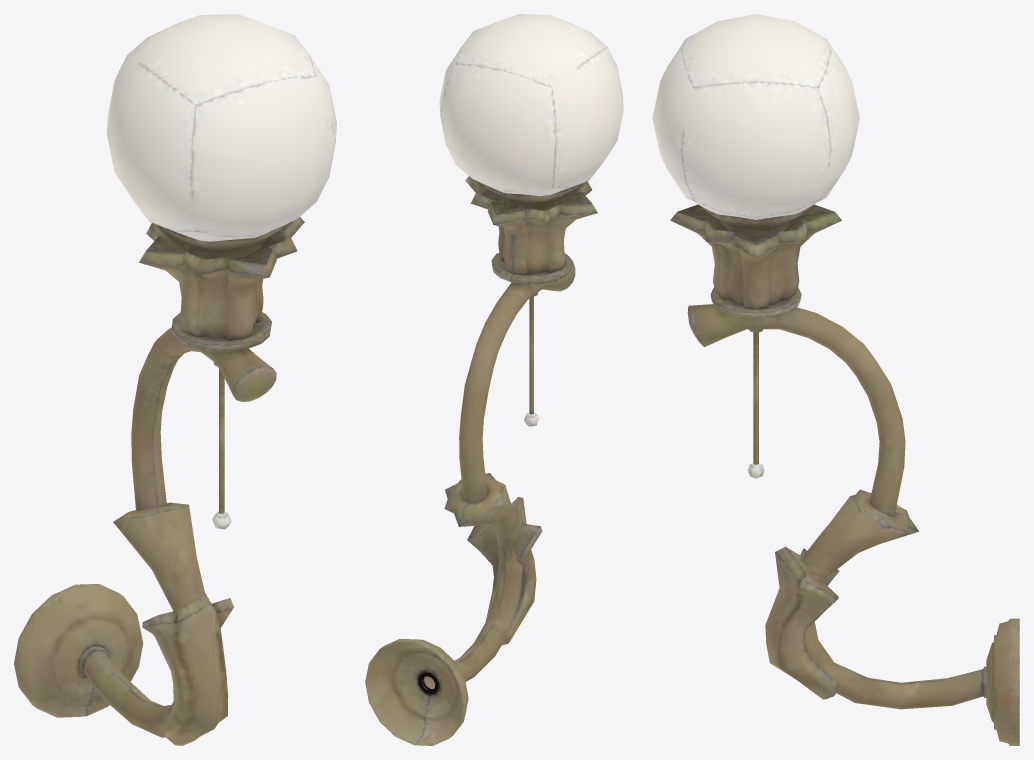
Rendered from luz_aplique_brazo.glb.
3 renders of one model, left to right at view 1: azimuth 30°, elevation 25°; view 2: azimuth 150°, elevation 25°; view 3: azimuth 270°, elevation 25°, orthographic. The views are drawn at different scales.
Parts seen in each view (by area): view 1: Circle.002_2ndFlr_Walllamp_0; view 2: Circle.002_2ndFlr_Walllamp_0; view 3: Circle.002_2ndFlr_Walllamp_0.
Boxes of the visible parts, x1,y1,x2,y2 form: Circle.002_2ndFlr_Walllamp_0: (14,14,336,745); Circle.002_2ndFlr_Walllamp_0: (365,14,623,745); Circle.002_2ndFlr_Walllamp_0: (652,14,1019,745).
Size of the model in its own units: 0.0999 by 0.38 by 0.1767.
1 material, 1 textured.
